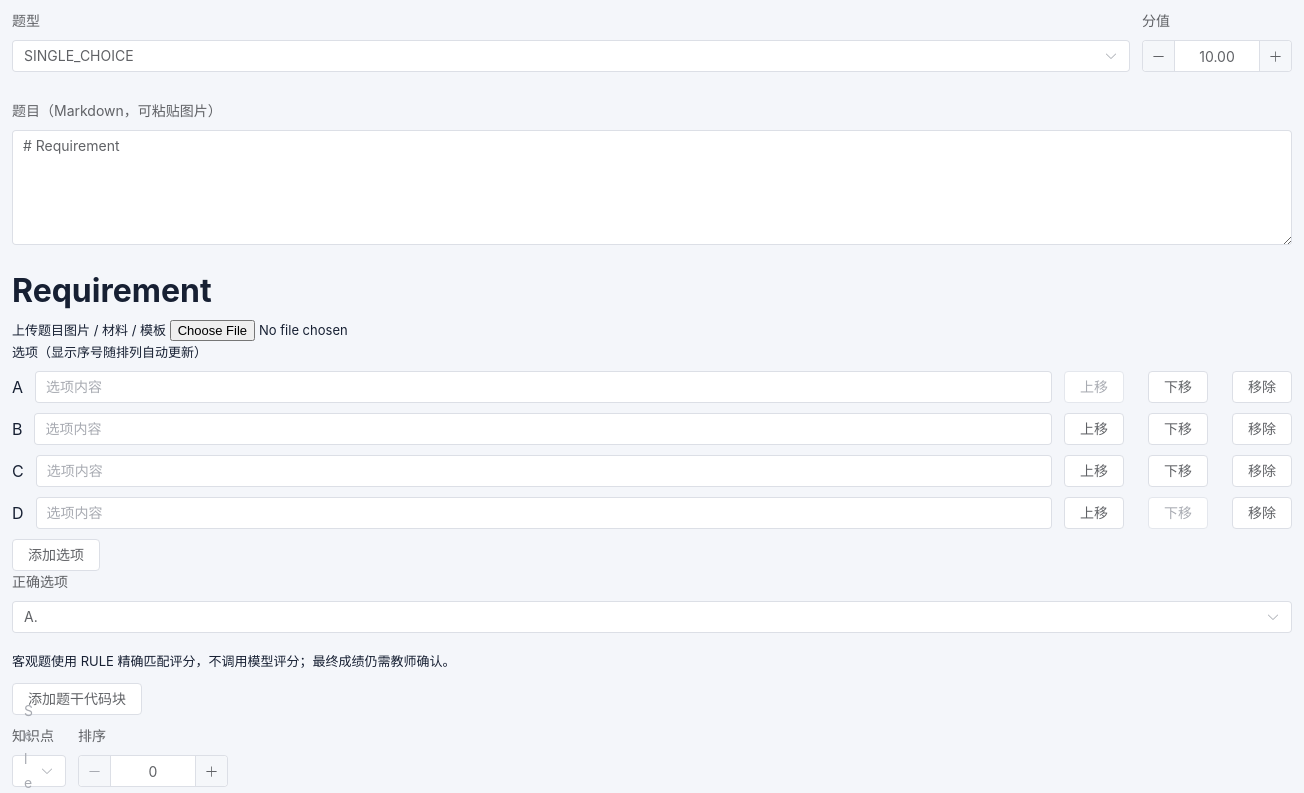
it: typed question editor › relabels after add/move/remove, preserves selected ID on reorder and clears deleted selection
Click the button "添加选项" at (56, 555), box [12,539,100,571]
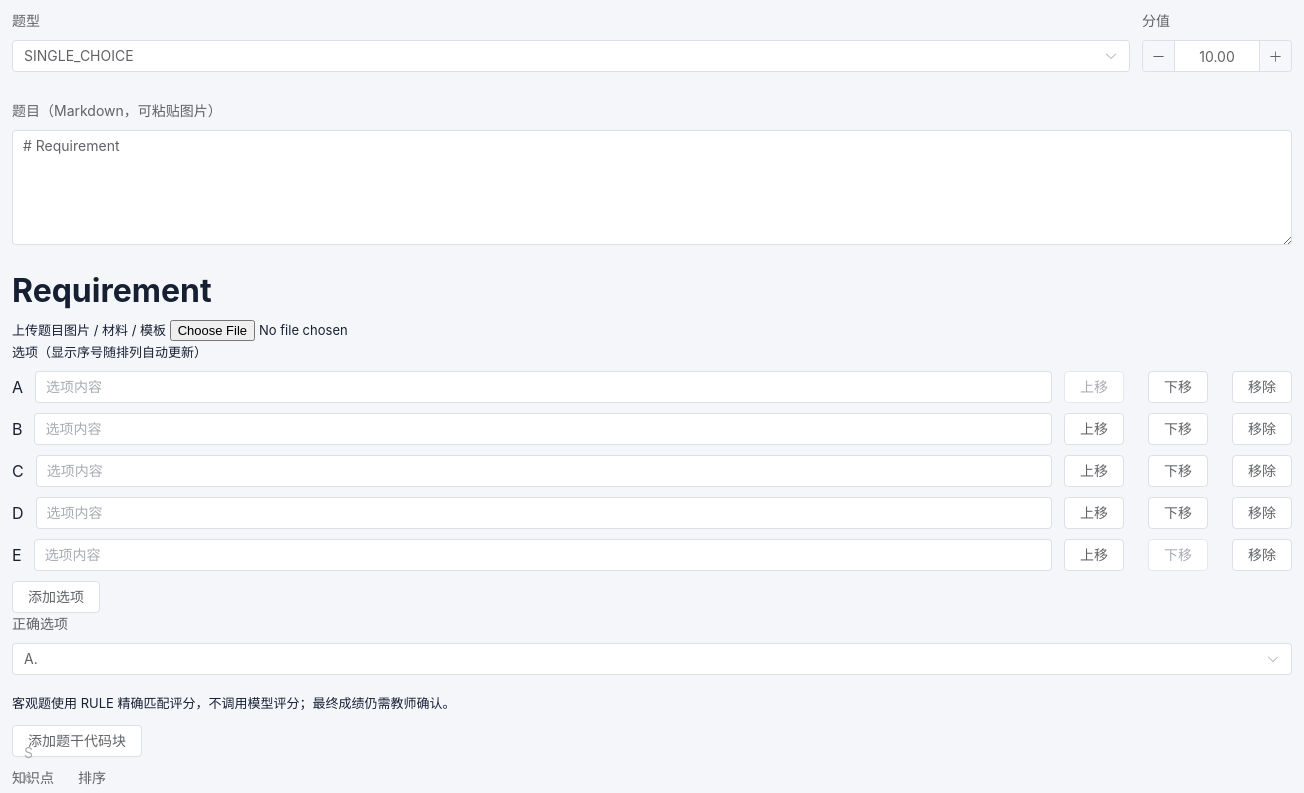
Expected: the elements with class "choice-label" read "A", "B", "C", "D", "E", in this order, [12,377,23,397]; [12,419,22,439]; [12,461,24,481]; [12,503,24,523]; [12,545,22,565]
Click the 1st button "下移" at (1178, 387), box [1148,371,1208,403]
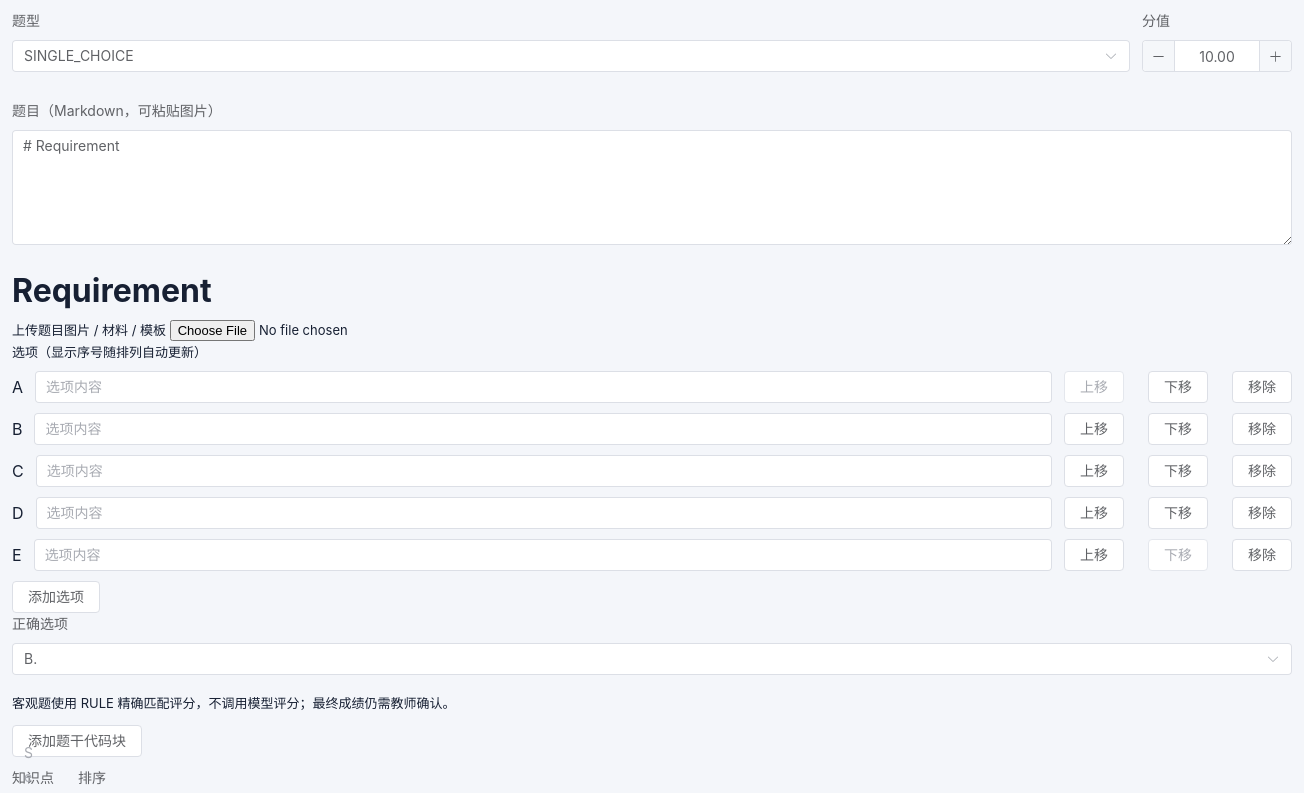
Click the 2nd button "移除" at (1262, 429), box [1232,413,1292,445]
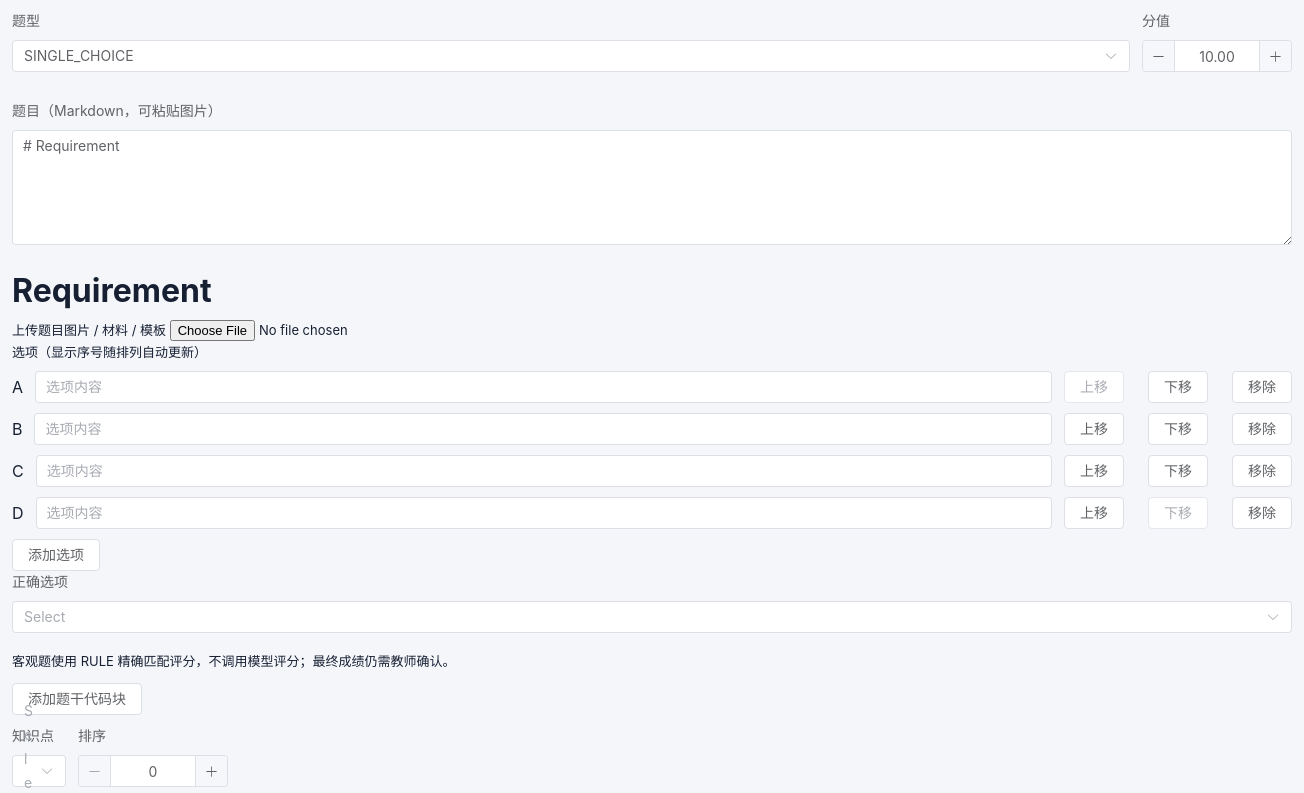
Expected: the elements with class "choice-label" read "A", "B", "C", "D", in this order, [12,377,23,397]; [12,419,22,439]; [12,461,24,481]; [12,503,24,523]
